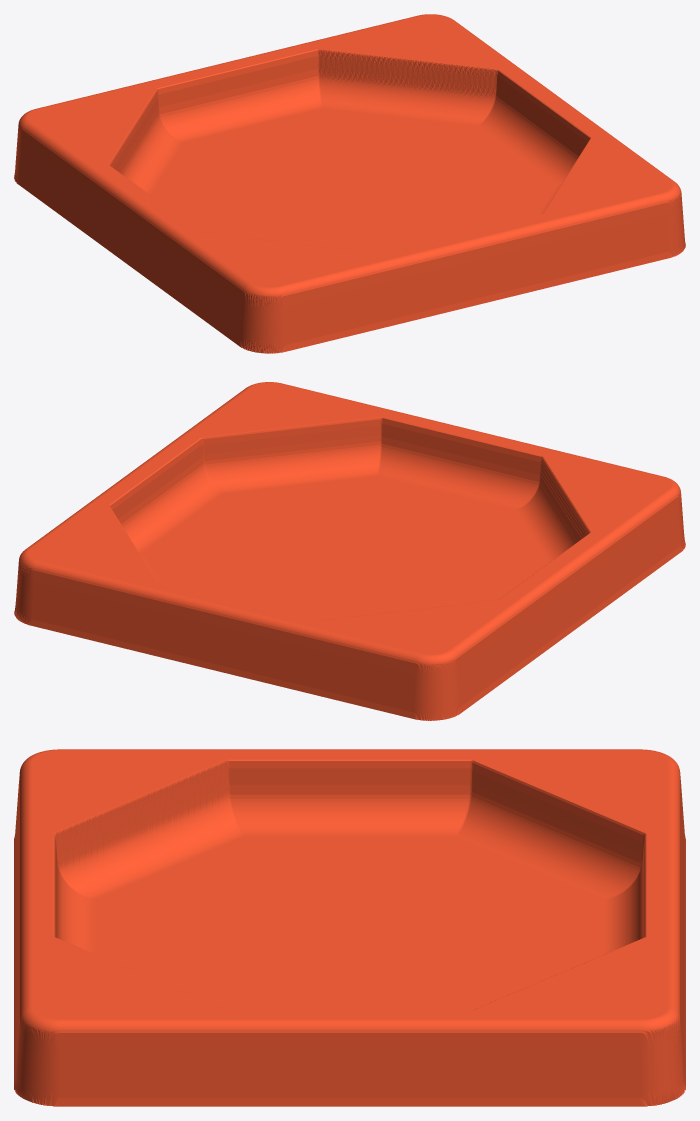
The model's file is mold.glb.
The picture shows the model from 3 angles, top to bottom: view 1: azimuth 30°, elevation 25°; view 2: azimuth 150°, elevation 25°; view 3: azimuth 270°, elevation 25°; orthographic projection. The views are drawn at different scales.
Parts seen in each view (by area): view 1: geometry_0; view 2: geometry_0; view 3: geometry_0.
Boxes of the visible parts, x1,y1,x2,y2 form: geometry_0: [14, 14, 685, 353]; geometry_0: [14, 382, 685, 720]; geometry_0: [14, 749, 685, 1106].
Size of the model in its own units: 0.1339 by 0.0175 by 0.1339.
